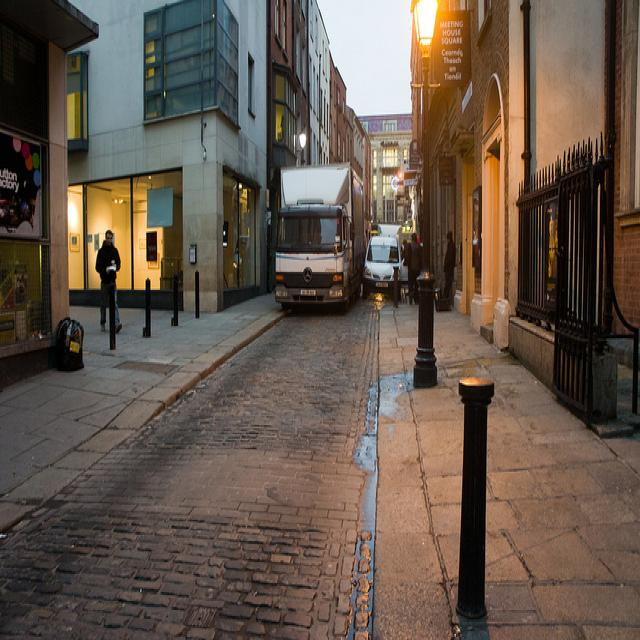Vehicle: (274, 159, 366, 317), (364, 235, 401, 298)
